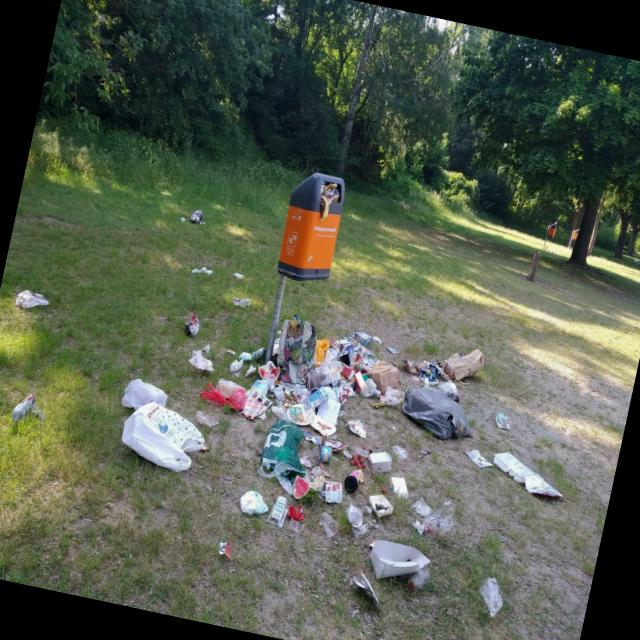garbage: (79, 262, 606, 640)
